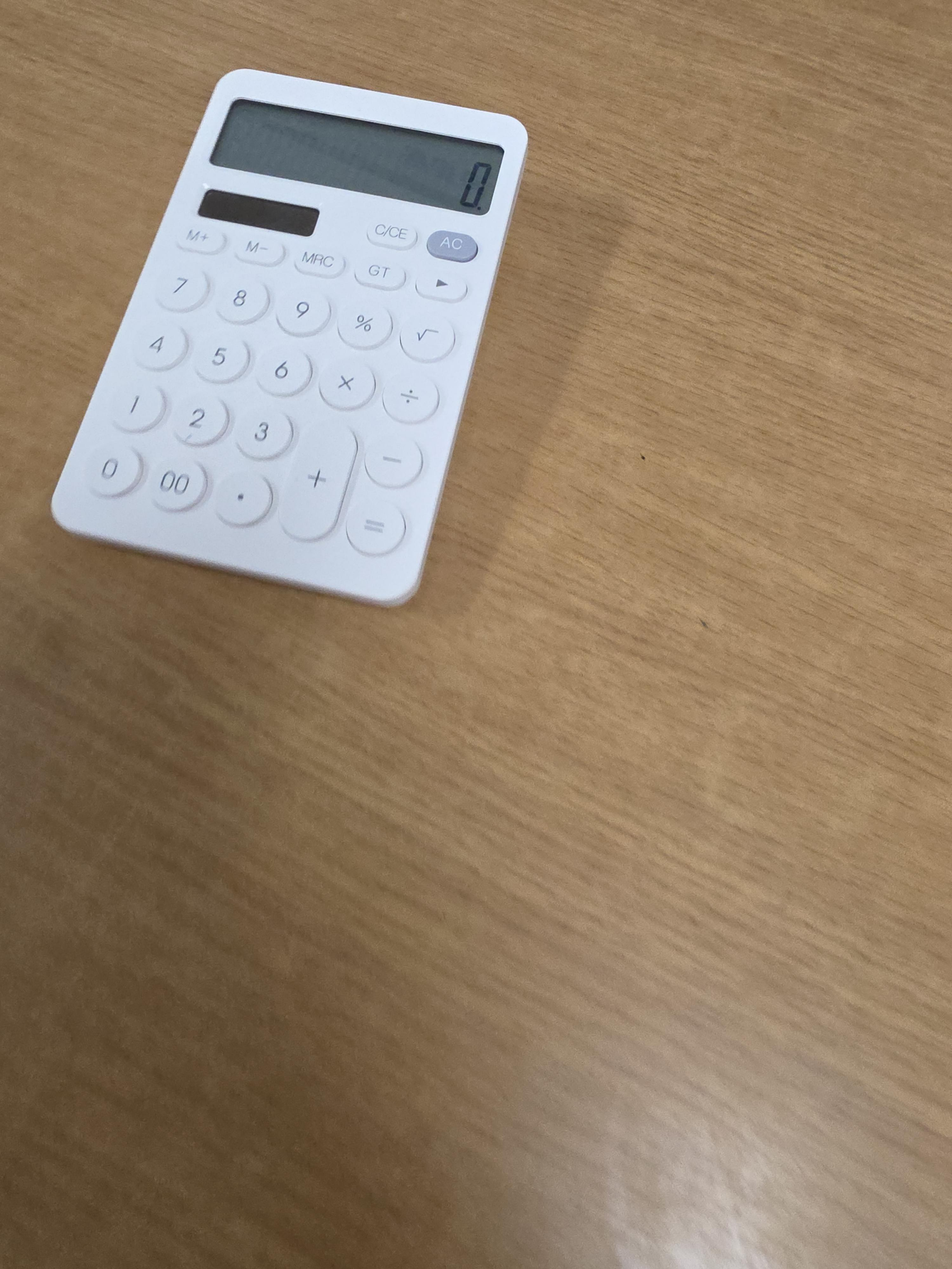calculator: (50, 68, 528, 606)
